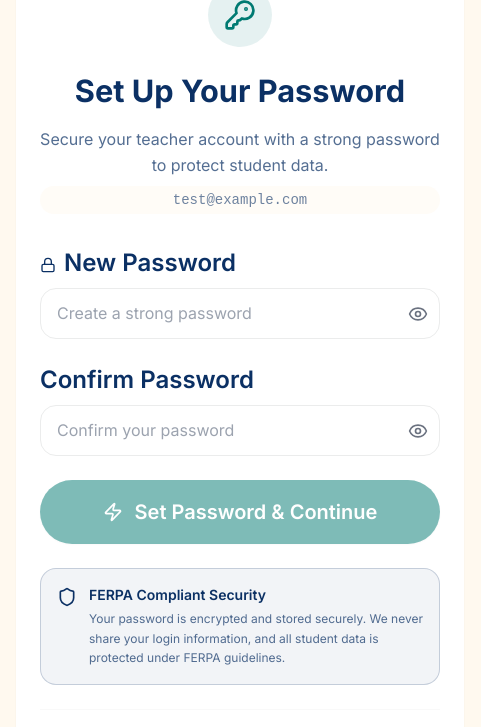
Test case: PasswordSetupFlow Component › Form Submission › handles API errors gracefully
The width and height of the screenshot is (481, 727).
Type "StrongPass123!" into the password field labelled "New Password" at (240, 314), box [40,288,440,339]
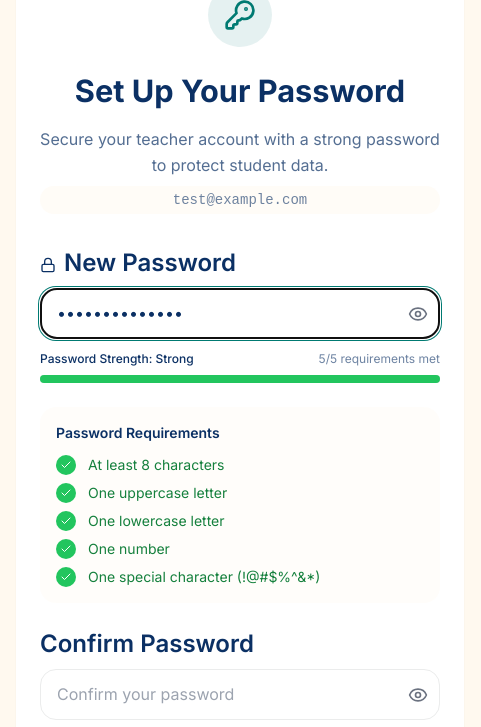
Type "StrongPass123!" into the password field labelled "Confirm Password" at (240, 695), box [40,669,440,720]
(page scrolled)
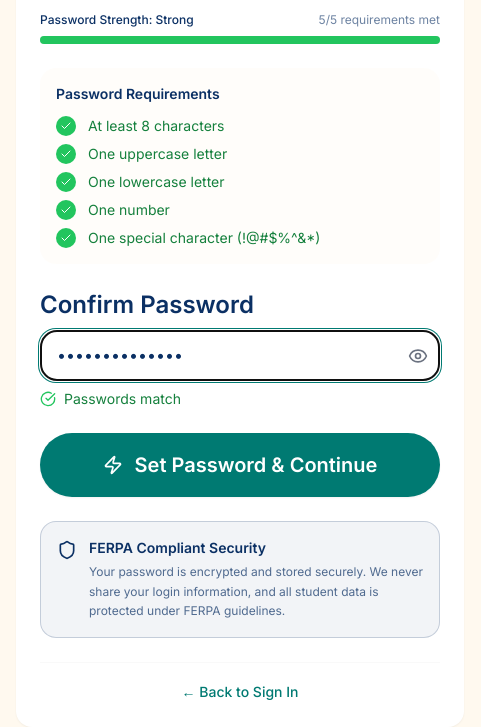
Click the button "Set Password & Continue" at (240, 466), box [40,434,440,498]
(page scrolled)
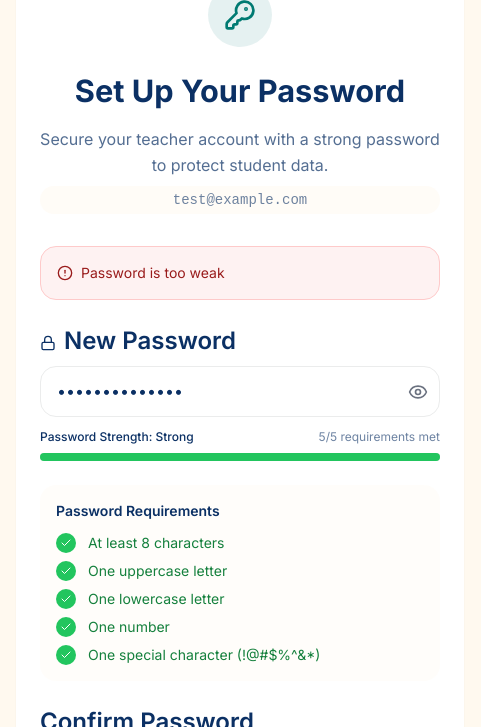
Now the text "Password is too weak" is shown, box [81,263,225,283]
